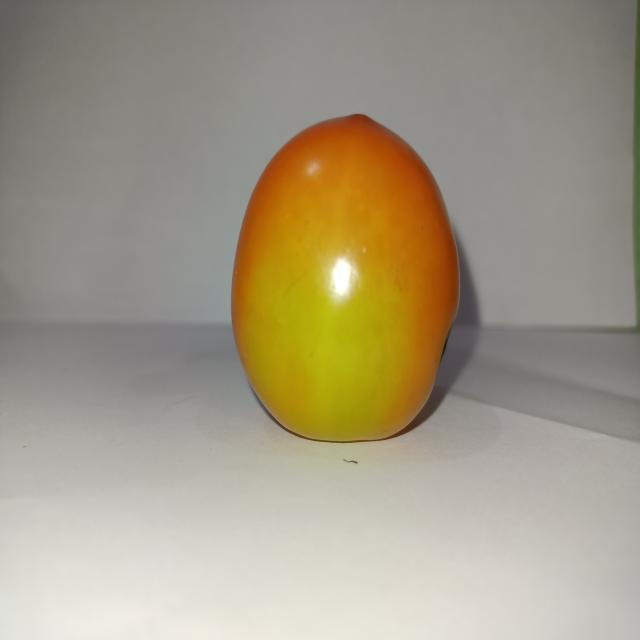Red: (229, 111, 461, 443)
